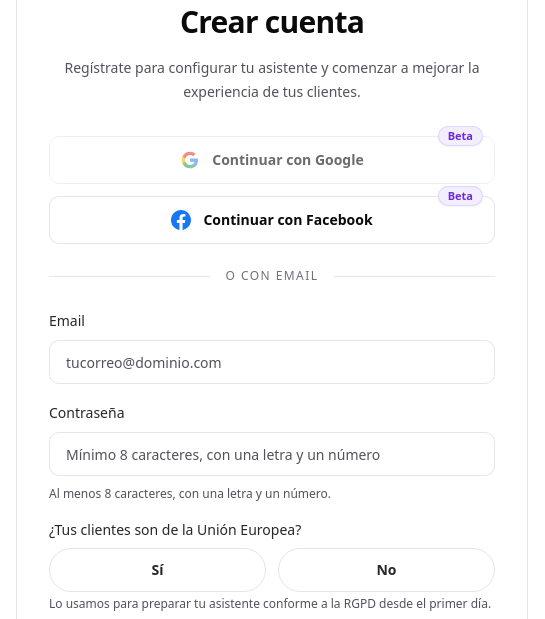
Test: RegisterPage › muestra el mensaje de error cuando el backend devuelve un string
Type "ana@example.com" into the field with placeholder "tucorreo@dominio.com" at (272, 362), box [49, 340, 495, 384]
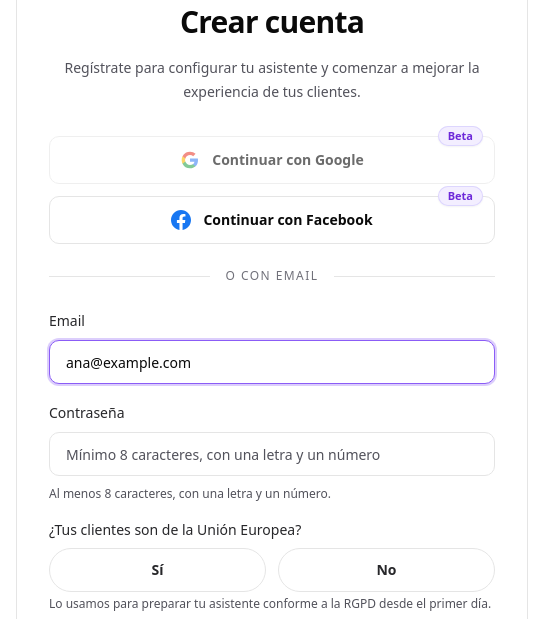
Type "password123" into the password field with placeholder "Mínimo 8 caracteres, con una letra y un número" at (272, 454), box [49, 432, 495, 476]
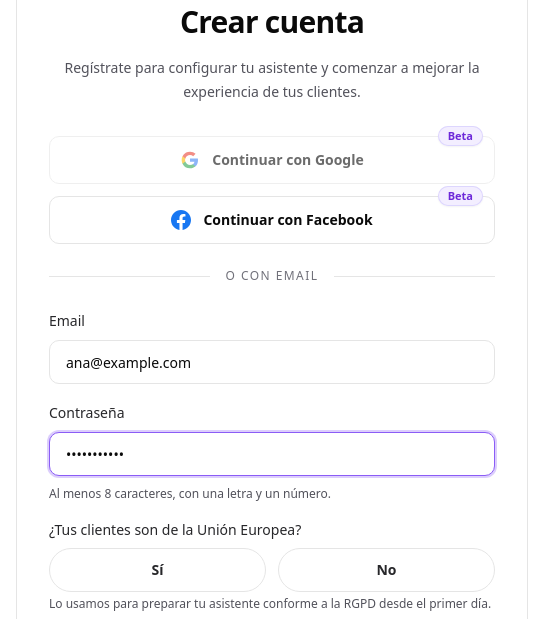
Click the radio button labelled "Sí" at (158, 570), box [49, 548, 266, 592]
(page scrolled)
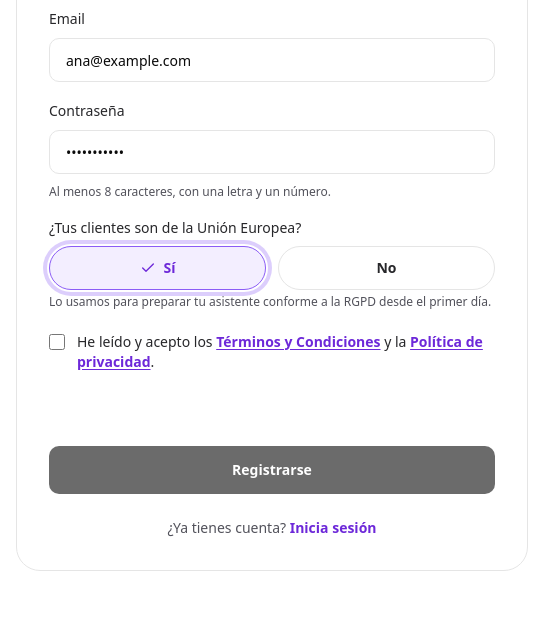
Click the checkbox at (57, 342), box [49, 334, 65, 350]
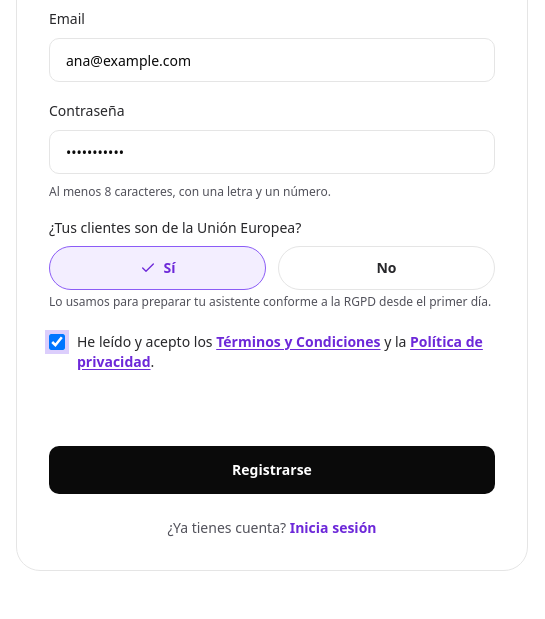
Click the button "Registrarse" at (272, 470), box [49, 446, 495, 494]
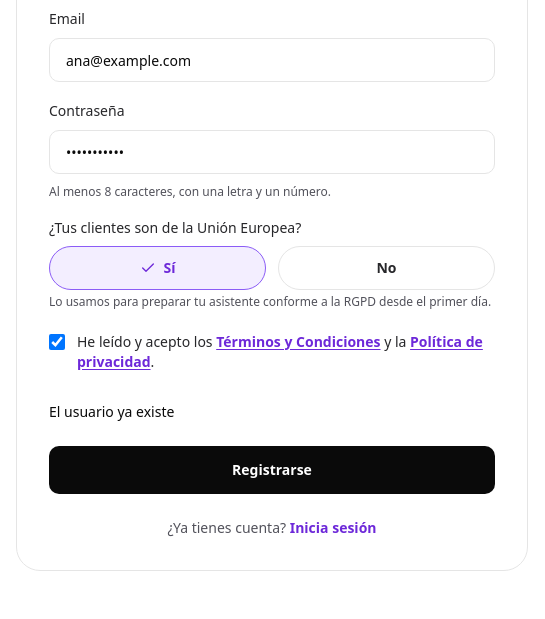
Check: the text "El usuario ya existe" is shown, box [49, 402, 174, 421]
